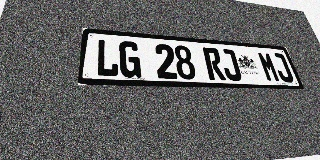2: (154, 43, 178, 79)
8: (173, 45, 197, 80)
G: (119, 41, 141, 78)
J: (219, 49, 243, 81), (270, 53, 295, 82)
L: (95, 39, 119, 77)
M: (257, 52, 281, 82)
R: (202, 47, 226, 80)
